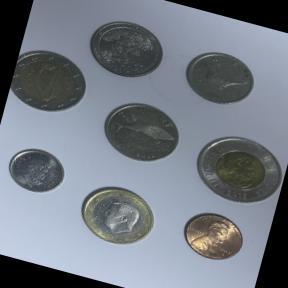coin: (183, 119, 288, 220), (88, 88, 192, 180), (67, 174, 168, 258), (5, 42, 96, 128), (81, 12, 174, 88), (173, 202, 255, 272), (0, 139, 71, 204)
